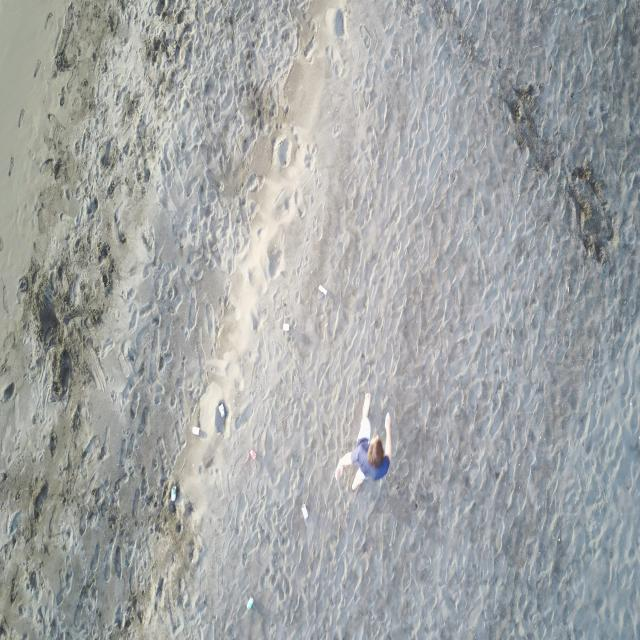Garbage: (216, 400, 226, 432), (169, 484, 176, 500), (247, 448, 256, 460), (300, 504, 307, 519), (318, 284, 327, 295), (192, 426, 200, 435), (218, 402, 223, 416), (246, 596, 252, 607), (281, 322, 288, 331)
